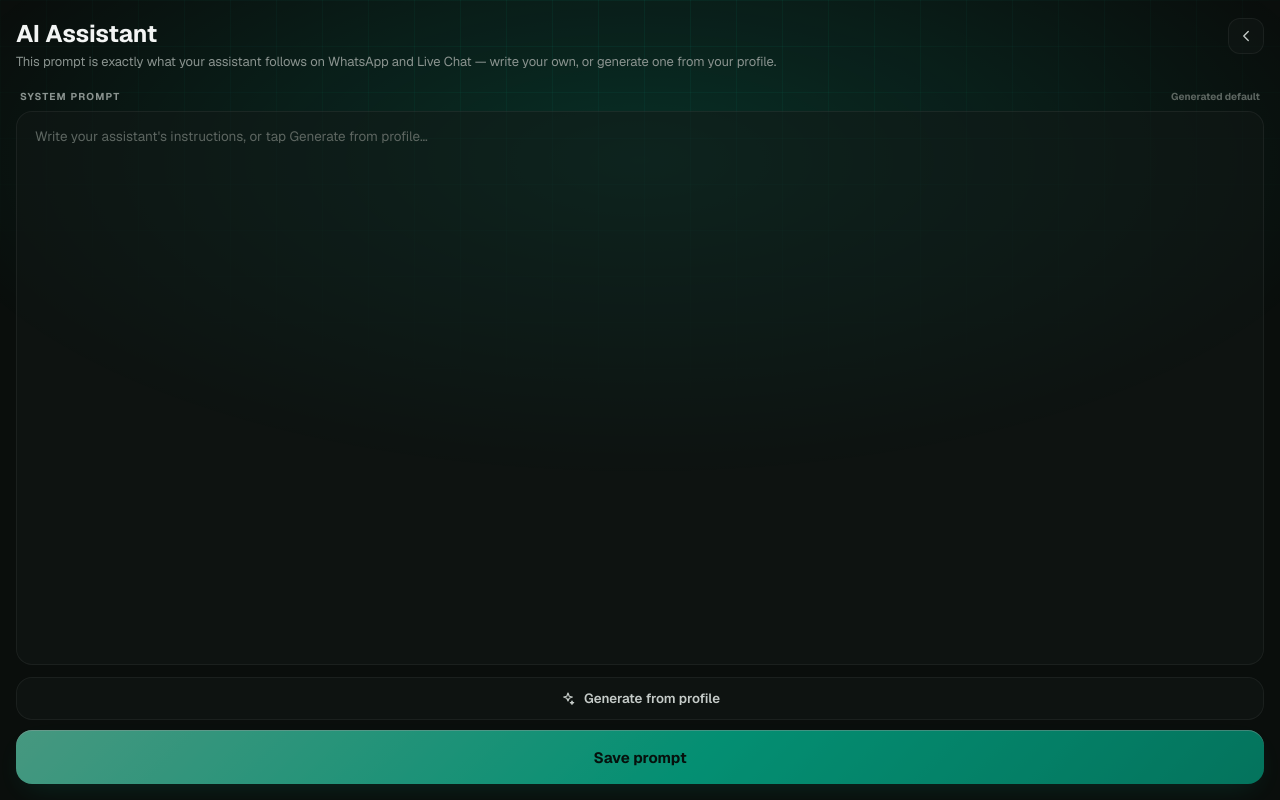
Assistant › generates a prompt from the profile into the editor
The width and height of the screenshot is (1280, 800).
Click the button "Generate from profile": (640, 698) top-left (16, 677), bottom-right (1264, 720)
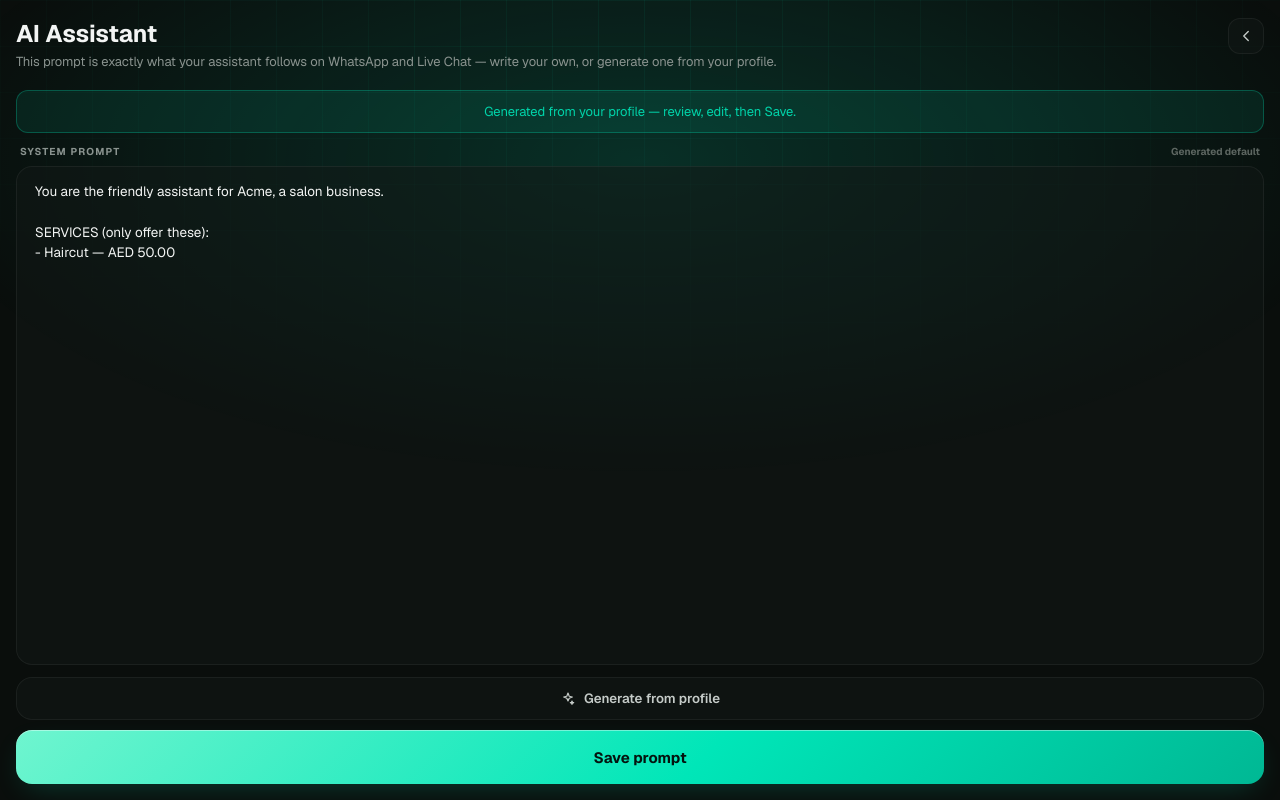
Check: the text "Generated from your profile — review, edit, then Save." is shown, box top-left (16, 90), bottom-right (1264, 133)
